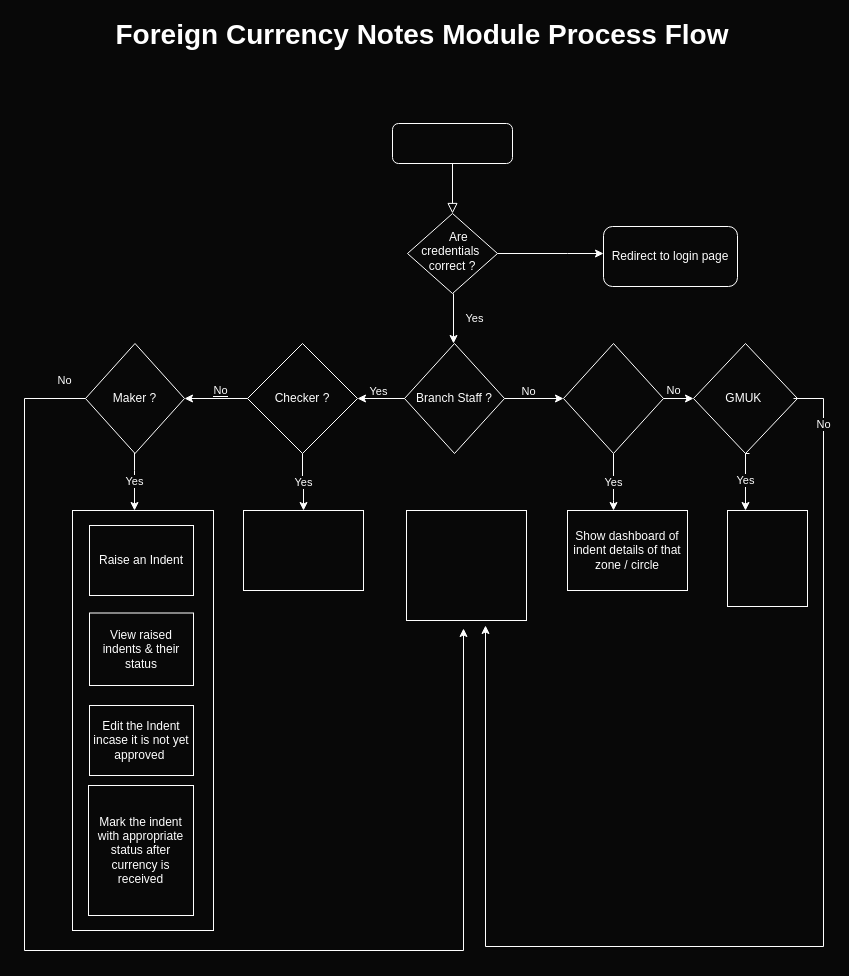
This 849x976 diagram has some shape labels left out. The shapes that lost their labels are listed below. From the top down, each one's box as (x1, y1, x2, y2) in pixels, then its label:
(392, 122, 512, 164): User Login
(562, 342, 664, 454): Zonal / Circle User
(242, 510, 364, 590): View, Approve or Reject Indent Requests
(406, 510, 526, 620): No functionality/ No option visible
(726, 510, 808, 606): Show dashboard of indent details of all branches
